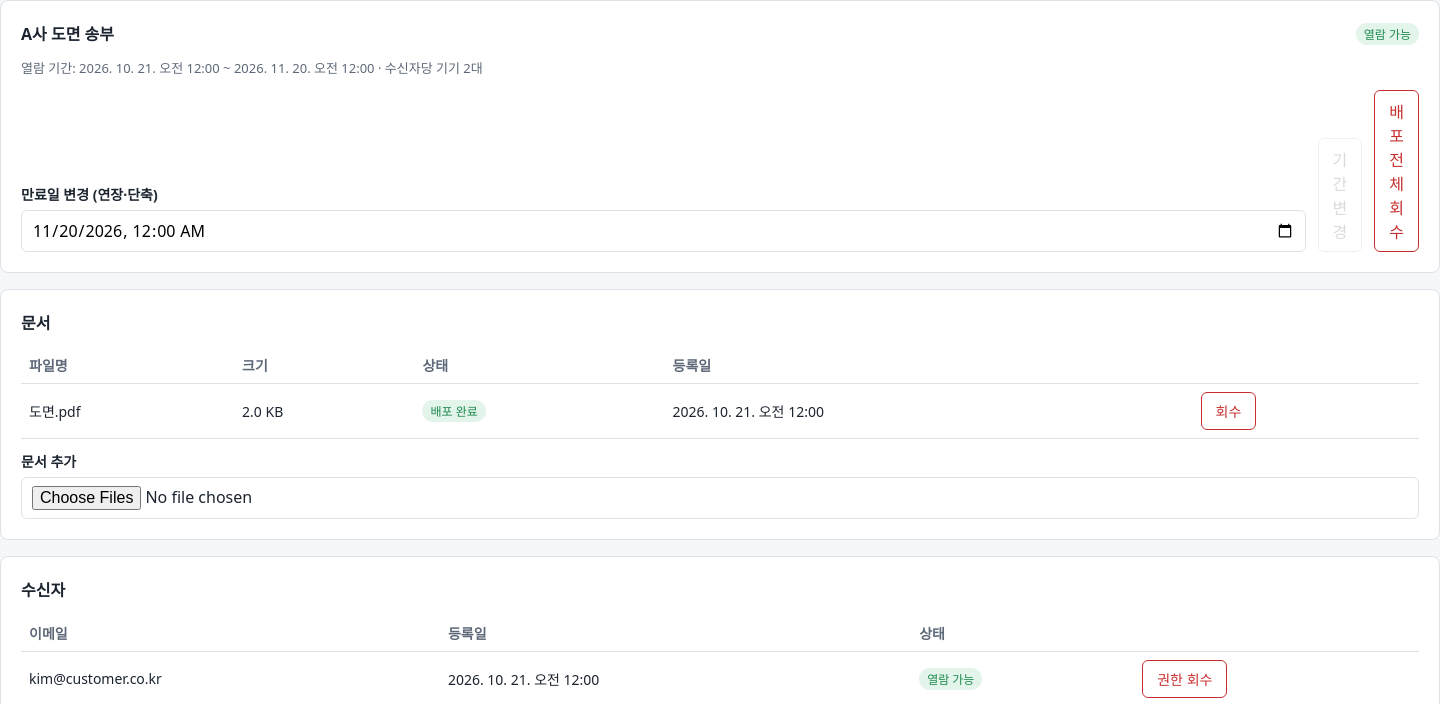
Test: 배포 관리 화면 (T1-19) › 수신자 권한 회수는 확인 후 요청하고 화면을 갱신한다
Click the button "권한 회수". click: (1185, 678)
box: [1142,660,1227,698]
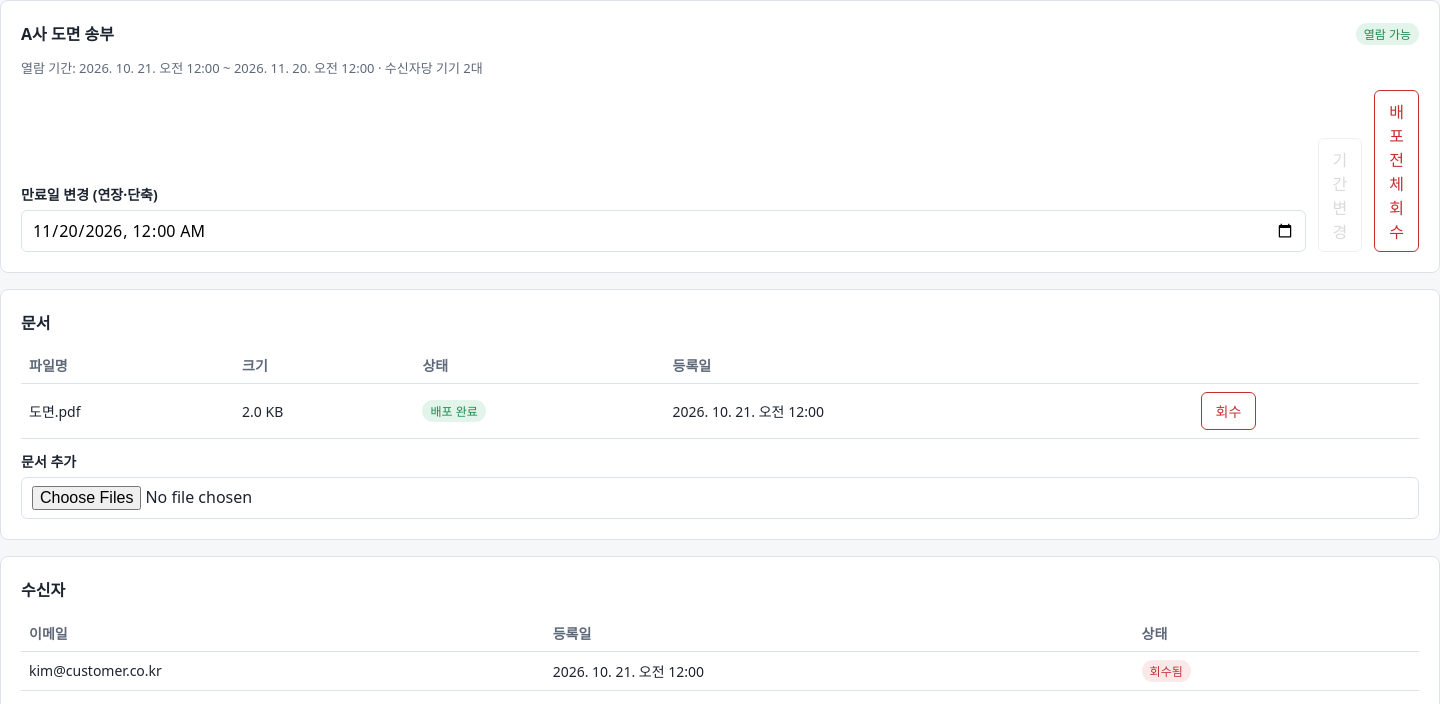
Now the text "회수됨" is shown, box [1142,660,1191,682]
